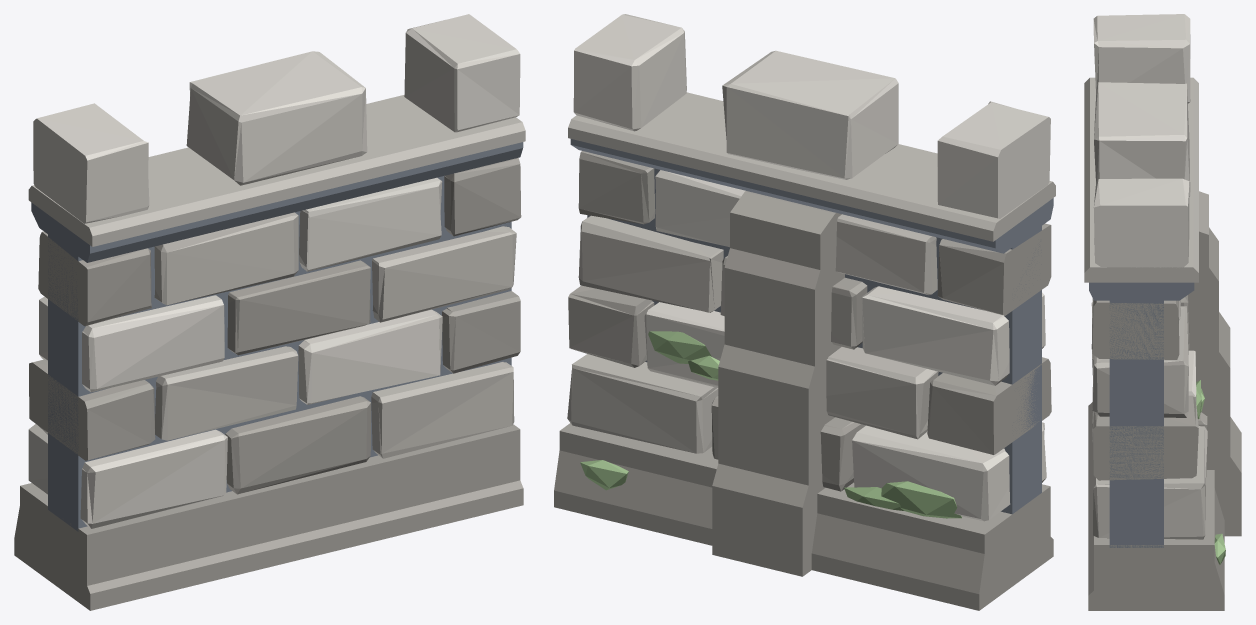
The model's file is StoneWall.fbx.
The picture shows the model from 3 angles, left to right: view 1: azimuth 30°, elevation 25°; view 2: azimuth 150°, elevation 25°; view 3: azimuth 270°, elevation 25°; orthographic projection. The views are drawn at different scales.
Parts seen in each view (by area): view 1: StoneWall.BlocksDark, StoneWall.Plinth, StoneWall.Merlons, StoneWall.BlocksLight, StoneWall.BlocksMid, StoneWall.Coping, StoneWall.MortarCore, StoneWall.ParapetBand; view 2: StoneWall.Buttress, StoneWall.Merlons, StoneWall.BlocksMid, StoneWall.Plinth, StoneWall.BlocksDark, StoneWall.BlocksLight, StoneWall.Coping, StoneWall.MortarCore, StoneWall.MossPatches, StoneWall.ParapetBand; view 3: StoneWall.Merlons, StoneWall.MortarCore, StoneWall.BlocksDark, StoneWall.Plinth, StoneWall.Buttress, StoneWall.BlocksMid, StoneWall.Coping, StoneWall.ParapetBand, StoneWall.BlocksLight, StoneWall.MossPatches.
Part boxes in pixels (<box>): StoneWall.BlocksDark: <box>29,158,521,494</box>; StoneWall.Plinth: <box>14,424,523,610</box>; StoneWall.Merlons: <box>33,14,520,223</box>; StoneWall.BlocksLight: <box>28,177,442,528</box>; StoneWall.BlocksMid: <box>154,212,516,458</box>; StoneWall.Coping: <box>28,94,525,246</box>; StoneWall.MortarCore: <box>48,176,511,531</box>; StoneWall.ParapetBand: <box>31,142,523,262</box>; StoneWall.Buttress: <box>712,191,844,576</box>; StoneWall.Merlons: <box>573,14,1050,218</box>; StoneWall.BlocksMid: <box>567,214,938,453</box>; StoneWall.Plinth: <box>554,423,1053,610</box>; StoneWall.BlocksDark: <box>568,151,1051,491</box>; StoneWall.BlocksLight: <box>644,170,1046,521</box>; StoneWall.Coping: <box>568,92,1055,241</box>; StoneWall.MortarCore: <box>587,168,1041,514</box>; StoneWall.MossPatches: <box>580,331,961,518</box>; StoneWall.ParapetBand: <box>570,139,1053,253</box>; StoneWall.Merlons: <box>1093,14,1190,267</box>; StoneWall.MortarCore: <box>1109,299,1163,547</box>; StoneWall.BlocksDark: <box>1091,295,1207,480</box>; StoneWall.Plinth: <box>1088,402,1224,610</box>; StoneWall.Buttress: <box>1188,191,1241,536</box>; StoneWall.BlocksMid: <box>1092,306,1207,539</box>; StoneWall.Coping: <box>1084,77,1198,282</box>; StoneWall.ParapetBand: <box>1089,282,1194,300</box>; StoneWall.BlocksLight: <box>1091,299,1196,442</box>; StoneWall.MossPatches: <box>1196,380,1225,564</box>.
Bounding box in the file's own units: 8 × 8 × 2.8.
